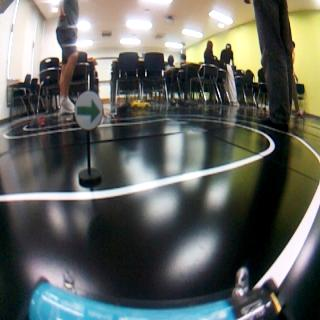right: (73, 90, 104, 132)
